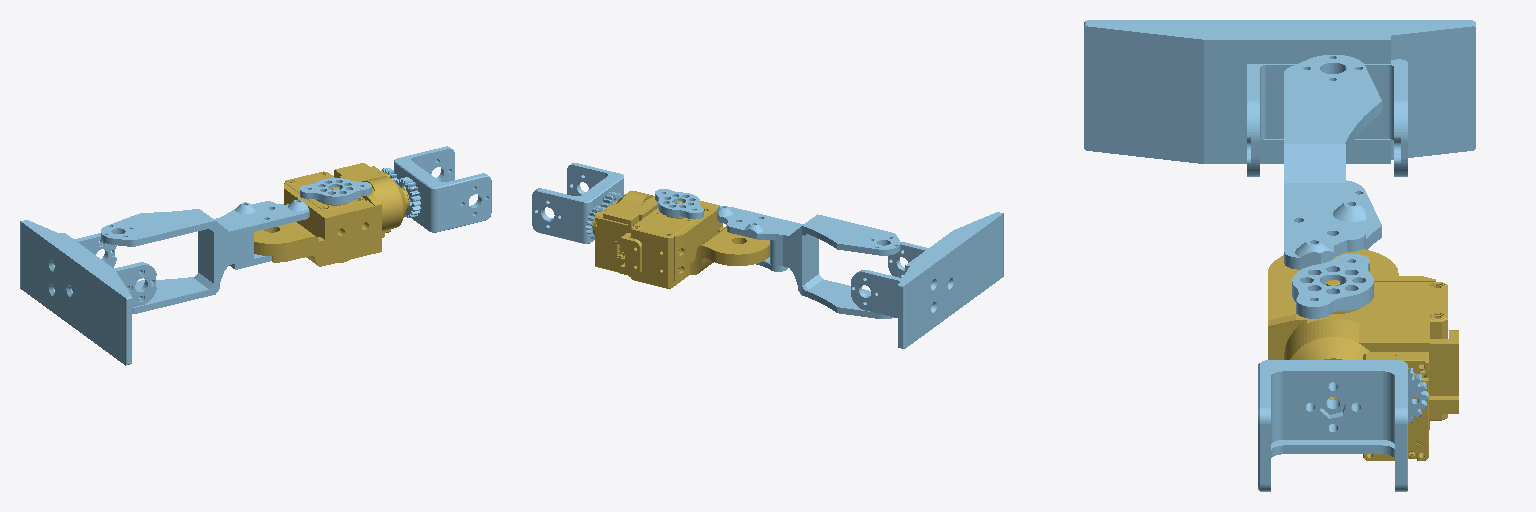
robot.urdf — left_leg_active:
<?xml version="1.0" ?><robot name="left_leg_active">  
  <link name="2xc430">    
    <visual>      
      <origin xyz="0 0 0" rpy="0 -0 0"/>      
      <geometry>        
        <mesh filename="package:///meshes/left_2xc430_visual.stl"/>        
      </geometry>      
      <material name="2xc430_material">        
        <color rgba="0.51698661238356047321 0.50347815951093488618 0.49050589017722012741 1.0"/>        
      </material>      
    </visual>    
    <collision>      
      <origin xyz="0 0 0" rpy="0 -0 0"/>      
      <geometry>        
        <mesh filename="package:///meshes/left_2xc430_collision.stl"/>        
      </geometry>      
    </collision>    
    <inertial>      
      <origin xyz="-0.0120001511339564923 0.00049588831385626367092 0.01850401924450319896" rpy="0 0 0"/>      
      <mass value="0.11059999999836234164"/>      
      <inertia ixx="2.2818802599017385101e-05" ixy="4.6888548258345894655e-08" ixz="4.6520143289217505514e-08" iyy="3.0871666424467696587e-05" iyz="-5.7477343899723834052e-07" izz="3.0871632082336744173e-05"/>      
    </inertial>    
  </link>  

  <link name="hip_yaw_link">    
    <visual>      
      <origin xyz="0 0 0" rpy="0 -0 0"/>      
      <geometry>        
        <mesh filename="package:///meshes/left_hip_yaw_link_visual.stl"/>        
      </geometry>      
      <material name="hip_yaw_link_material">        
        <color rgba="0.61568627450980395466 0.81176470588235294379 0.92941176470588238168 1.0"/>        
      </material>      
    </visual>    
    <collision>      
      <origin xyz="0 0 0" rpy="0 -0 0"/>      
      <geometry>        
        <mesh filename="package:///meshes/left_hip_yaw_link_collision.stl"/>        
      </geometry>      
    </collision>    
    <inertial>      
      <origin xyz="7.9056415076153557052e-19 -0.015800610849654277146 -0.019005670096647751116" rpy="0 0 0"/>      
      <mass value="0.013199999999999992989"/>      
      <inertia ixx="5.789461597517412337e-06" ixy="-1.7415088674758894312e-36" ixz="1.2832779283935135522e-36" iyy="5.0110144042848776317e-06" iyz="1.1826010760651176287e-09" izz="2.7344876354814331659e-06"/>      
    </inertial>    
  </link>  

  <link name="spur_gear_21_teeth">    
    <visual>      
      <origin xyz="0 0 0" rpy="0 -0 0"/>      
      <geometry>        
        <mesh filename="package:///meshes/left_spur_gear_21_teeth_visual.stl"/>        
      </geometry>      
      <material name="spur_gear_21_teeth_material">        
        <color rgba="0.61568627450980395466 0.81176470588235294379 0.9294117647058824927 1.0"/>        
      </material>      
    </visual>    
    <collision>      
      <origin xyz="0 0 0" rpy="0 -0 0"/>      
      <geometry>        
        <mesh filename="package:///meshes/left_spur_gear_21_teeth_collision.stl"/>        
      </geometry>      
    </collision>    
    <inertial>      
      <origin xyz="-4.5505289335411606329e-11 -1.6782163661890817574e-11 -0.00249241020062506086" rpy="0 0 0"/>      
      <mass value="0.0022000000000000001325"/>      
      <inertia ixx="7.0162310059594196881e-08" ixy="-1.7296344820489596811e-39" ixz="-2.6465015955880150586e-39" iyy="7.016231005804746178e-08" iyz="4.706443675885446204e-39" izz="1.3125544198538289306e-07"/>      
    </inertial>    
  </link>  

  <link name="left_hip_pitch_link">    
    <visual>      
      <origin xyz="0 0 0" rpy="0 -0 0"/>      
      <geometry>        
        <mesh filename="package:///meshes/left_hip_pitch_link_visual.stl"/>        
      </geometry>      
      <material name="left_hip_pitch_link_material">        
        <color rgba="0.80773802221328794282 0.71541030077254164077 0.35058406659986895981 1.0"/>        
      </material>      
    </visual>    
    <collision>      
      <origin xyz="0 0 0" rpy="0 -0 0"/>      
      <geometry>        
        <mesh filename="package:///meshes/left_hip_pitch_link_collision.stl"/>        
      </geometry>      
    </collision>    
    <inertial>      
      <origin xyz="-0.0099310748247876320938 -0.0055733268638736314579 0.039014117054800595552" rpy="0 0 0"/>      
      <mass value="0.14895408167669133004"/>      
      <inertia ixx="7.3955327919483632962e-05" ixy="-1.1805488631452789334e-06" ixz="-8.060325155229058482e-06" iyy="8.8995102919696593489e-05" iyz="1.1275669888575771416e-06" izz="4.2292269256454298725e-05"/>      
    </inertial>    
  </link>  

  <link name="spur_gear_18_teeth">    
    <visual>      
      <origin xyz="0 0 0" rpy="0 -0 0"/>      
      <geometry>        
        <mesh filename="package:///meshes/left_spur_gear_18_teeth_visual.stl"/>        
      </geometry>      
      <material name="spur_gear_18_teeth_material">        
        <color rgba="0.61568627450980395466 0.81176470588235294379 0.92941176470588238168 1.0"/>        
      </material>      
    </visual>    
    <collision>      
      <origin xyz="0 0 0" rpy="0 -0 0"/>      
      <geometry>        
        <mesh filename="package:///meshes/left_spur_gear_18_teeth_collision.stl"/>        
      </geometry>      
    </collision>    
    <inertial>      
      <origin xyz="-7.7513419666719815872e-14 -3.6849749222242637987e-13 0.0017500000000010135486" rpy="0 0 0"/>      
      <mass value="0.0011999999999999998949"/>      
      <inertia ixx="2.9367899810799927978e-08" ixy="7.0237994118966961071e-19" ixz="-9.093083600898419224e-36" iyy="2.9367899814659469999e-08" iyz="-6.7496912845597021962e-37" izz="5.6306346207859581581e-08"/>      
    </inertial>    
  </link>  

  <joint name="left_hip_yaw_drive" type="fixed">    
    <origin xyz="-0.019199999999993326572 0.00020000000000297904479 -3.3591185388814892576e-14" rpy="-3.1415926535896656624 -5.0119741105083928872e-13 4.8264601989417384549e-13"/>    
    <parent link="left_hip_pitch_link"/>    
    <child link="spur_gear_18_teeth"/>    
    <axis xyz="0 0 1"/>    
    <limit effort="1" velocity="20"/>    
    <joint_properties friction="0.0"/>    
  </joint>  

  <link name="left_calf_link">    
    <visual>      
      <origin xyz="0 0 0" rpy="0 -0 0"/>      
      <geometry>        
        <mesh filename="package:///meshes/left_calf_link_visual.stl"/>        
      </geometry>      
      <material name="left_calf_link_material">        
        <color rgba="0.61568627450980395466 0.81176470588235294379 0.92941176470588238168 1.0"/>        
      </material>      
    </visual>    
    <collision>      
      <origin xyz="0 0 0" rpy="0 -0 0"/>      
      <geometry>        
        <mesh filename="package:///meshes/left_calf_link_collision.stl"/>        
      </geometry>      
    </collision>    
    <inertial>      
      <origin xyz="-0.0043450054391248786947 0.040752982165250771496 0.0087116093515534967495" rpy="0 0 0"/>      
      <mass value="0.030999999999999992839"/>      
      <inertia ixx="3.3069388685112569883e-05" ixy="-1.3783307153201298896e-06" ixz="-1.2742534026334006212e-07" iyy="7.7316525337315854217e-06" iyz="-7.335650059386048945e-08" izz="2.8031377753987751284e-05"/>      
    </inertial>    
  </link>  

  <link name="left_ank_pitch_link">    
    <visual>      
      <origin xyz="0 0 0" rpy="0 -0 0"/>      
      <geometry>        
        <mesh filename="package:///meshes/left_ank_pitch_link_visual.stl"/>        
      </geometry>      
      <material name="left_ank_pitch_link_material">        
        <color rgba="0.70321688500203349825 0.64514870846184457776 0.40484735422826251261 1.0"/>        
      </material>      
    </visual>    
    <collision>      
      <origin xyz="0 0 0" rpy="0 -0 0"/>      
      <geometry>        
        <mesh filename="package:///meshes/left_ank_pitch_link_collision.stl"/>        
      </geometry>      
    </collision>    
    <inertial>      
      <origin xyz="0.017770241891401236667 0.012301334508572112081 0.018813528244421784397" rpy="0 0 0"/>      
      <mass value="0.1767637669506791076"/>      
      <inertia ixx="4.7283316680251528594e-05" ixy="-1.3380598598440066277e-06" ixz="-5.5304058905152607314e-07" iyy="0.00010706456048089248178" iyz="-5.3225137839470791761e-08" izz="0.00012185522397136386665"/>      
    </inertial>    
  </link>  

  <link name="ank_roll_link">    
    <visual>      
      <origin xyz="0 0 0" rpy="0 -0 0"/>      
      <geometry>        
        <mesh filename="package:///meshes/left_ank_roll_link_visual.stl"/>        
      </geometry>      
      <material name="ank_roll_link_material">        
        <color rgba="0.61568627450980384364 0.81176470588235283277 0.92941176470588227065 1.0"/>        
      </material>      
    </visual>    
    <collision>      
      <origin xyz="0 0 0" rpy="0 -0 0"/>      
      <geometry>        
        <mesh filename="package:///meshes/left_ank_roll_link_collision.stl"/>        
      </geometry>      
    </collision>    
    <inertial>      
      <origin xyz="-0.027003066516822049614 -2.0057346566329234726e-12 0.033764011359896449471" rpy="0 0 0"/>      
      <mass value="0.042600000000000012856"/>      
      <inertia ixx="3.7284397827464321284e-05" ixy="-5.5171856782523619006e-16" ixz="2.3929183768080488394e-06" iyy="3.7589276943350537956e-05" iyz="5.0934855332653714243e-12" izz="1.0090430906786831852e-05"/>      
    </inertial>    
  </link>  

  <joint name="left_ank_roll" type="revolute">    
    <origin xyz="0.022749999999985538734 -7.882583474838611437e-15 0.01900000000000061362" rpy="-1.5707963267949487385 -4.2119656378063955504e-14 1.5707963267951472464"/>    
    <parent link="left_ank_pitch_link"/>    
    <child link="ank_roll_link"/>    
    <axis xyz="0 0 1"/>    
    <limit effort="1" velocity="20" lower="-1.570796326794896558" upper="1.570796326794896558"/>    
    <joint_properties friction="0.0"/>    
  </joint>  

  <joint name="left_ank_pitch" type="revolute">    
    <origin xyz="-1.9512606733250257952e-15 0.10000000000000036637 0.02775000000000000383" rpy="-3.141592653589793116 3.5087959447744686916e-16 2.3008038058414658775e-14"/>    
    <parent link="left_calf_link"/>    
    <child link="left_ank_pitch_link"/>    
    <axis xyz="0 0 1"/>    
    <limit effort="1" velocity="20" lower="-1.7453292519943295336" upper="0.785398163397448279"/>    
    <joint_properties friction="0.0"/>    
  </joint>  

  <joint name="left_knee" type="revolute">    
    <origin xyz="-2.8613480456167939715e-17 -0.0087499999999999158312 0.085949999999999998623" rpy="1.57079632679489678 3.591571484825329779e-14 3.141592653589793116"/>    
    <parent link="left_hip_pitch_link"/>    
    <child link="left_calf_link"/>    
    <axis xyz="0 0 1"/>    
    <limit effort="1" velocity="20" lower="-2.0943951023931952626" upper="0"/>    
    <joint_properties friction="0.0"/>    
  </joint>  

  <link name="xm430_plate">    
    <visual>      
      <origin xyz="0 0 0" rpy="0 -0 0"/>      
      <geometry>        
        <mesh filename="package:///meshes/left_xm430_plate_visual.stl"/>        
      </geometry>      
      <material name="xm430_plate_material">        
        <color rgba="0.61568627450980395466 0.81176470588235294379 0.92941176470588227065 1.0"/>        
      </material>      
    </visual>    
    <collision>      
      <origin xyz="0 0 0" rpy="0 -0 0"/>      
      <geometry>        
        <mesh filename="package:///meshes/left_xm430_plate_collision.stl"/>        
      </geometry>      
    </collision>    
    <inertial>      
      <origin xyz="-1.2470677117592975908e-17 -2.603989803260703764e-18 0.0025278513919583817798" rpy="0 0 0"/>      
      <mass value="0.0026999999999999997093"/>      
      <inertia ixx="1.2887178787151824688e-07" ixy="5.8739562556303580066e-08" ixz="1.3747001931663957437e-36" iyy="2.4635091298412528789e-07" iyz="1.2591564783620003869e-36" izz="3.6467998413810316538e-07"/>      
    </inertial>    
  </link>  

  <joint name="left_knee_act" type="fixed">    
    <origin xyz="2.549465851207057319e-18 0.012450000000000006201 0.044499999999999990952" rpy="-1.570796326794896558 1.570796326794896558 0"/>    
    <parent link="left_hip_pitch_link"/>    
    <child link="xm430_plate"/>    
    <axis xyz="0 0 1"/>    
    <limit effort="1" velocity="20"/>    
    <joint_properties friction="0.0"/>    
  </joint>  

  <joint name="left_hip_yaw" type="revolute">    
    <origin xyz="3.3476830706536645795e-18 3.4694469519536141888e-18 -0.0049999999999999905631" rpy="-3.141592653589793116 -9.9920072216846031328e-16 -6.2516448472107216595e-14"/>    
    <parent link="spur_gear_21_teeth"/>    
    <child link="left_hip_pitch_link"/>    
    <axis xyz="0 0 1"/>    
    <limit effort="1" velocity="20" lower="-1.570796326794896558" upper="1.570796326794896558"/>    
    <joint_properties friction="0.0"/>    
  </joint>  

  <joint name="left_hip_yaw_fixed" type="fixed">    
    <origin xyz="0 -0.028000000000000004052 -0.018999999999999999528" rpy="-1.5707963267948932273 1.5707963267948956698 0"/>    
    <parent link="hip_yaw_link"/>    
    <child link="spur_gear_21_teeth"/>    
    <axis xyz="0 0 1"/>    
    <limit effort="1" velocity="20"/>    
    <joint_properties friction="0.0"/>    
  </joint>  

  <joint name="left_hip_roll" type="revolute">    
    <origin xyz="-0.024000000716139682777 0.019000000152448071056 0.019000000152447796969" rpy="-1.57079632679489678 -1.5707963267948943376 0"/>    
    <parent link="2xc430"/>    
    <child link="hip_yaw_link"/>    
    <axis xyz="0 0 1"/>    
    <limit effort="1" velocity="20" lower="-0.785398163397448279" upper="0.785398163397448279"/>    
    <joint_properties friction="0.0"/>    
  </joint>  


</robot>

--- Render facts (derived) ---
3 views of the same robot in one strip: view 1: azimuth 30°, elevation 25°; view 2: azimuth 150°, elevation 25°; view 3: azimuth 270°, elevation 25° (orthographic).
Model left_leg_active with 9 links and 8 joints (5 revolute, 3 fixed), rooted at 2xc430, posed every joint at zero.
Links seen in each view (by area): view 1: ank_roll_link, left_calf_link, left_hip_pitch_link, hip_yaw_link, xm430_plate; view 2: ank_roll_link, left_hip_pitch_link, left_calf_link, hip_yaw_link, xm430_plate; view 3: ank_roll_link, left_hip_pitch_link, left_calf_link, hip_yaw_link, xm430_plate, spur_gear_18_teeth.
Link boxes in pixels (<box>): ank_roll_link: <box>20,220,156,365</box>; left_calf_link: <box>101,199,309,313</box>; left_hip_pitch_link: <box>254,163,409,266</box>; hip_yaw_link: <box>394,146,491,232</box>; xm430_plate: <box>300,178,371,204</box>; ank_roll_link: <box>851,212,1003,348</box>; left_hip_pitch_link: <box>592,191,769,288</box>; left_calf_link: <box>717,206,900,318</box>; hip_yaw_link: <box>532,163,623,243</box>; xm430_plate: <box>655,189,703,219</box>; ank_roll_link: <box>1084,20,1475,176</box>; left_hip_pitch_link: <box>1268,249,1458,460</box>; left_calf_link: <box>1284,55,1381,269</box>; hip_yaw_link: <box>1258,360,1407,491</box>; xm430_plate: <box>1292,254,1373,318</box>; spur_gear_18_teeth: <box>1408,368,1428,422</box>.
Size in the robot's own frame: 0.2689 by 0.12 by 0.0485 metres.
Meshes: 9 distinct files referenced, 7 mesh visuals loaded (7 binary STL); not drawn: 2 (reference not matched to a file when rendering).